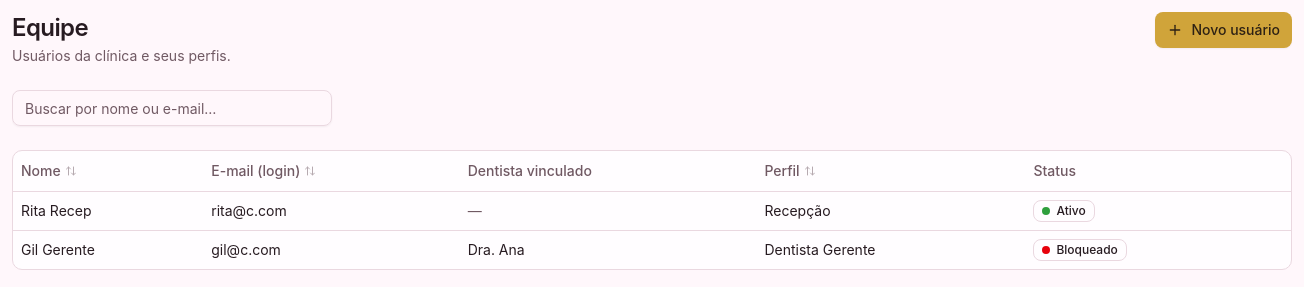
Test case: UsuariosPage › filtra pela busca (nome ou e-mail)
Type "gil" into the field with placeholder "Buscar por nome ou e-mail…" at (172, 108), box [12, 90, 332, 126]
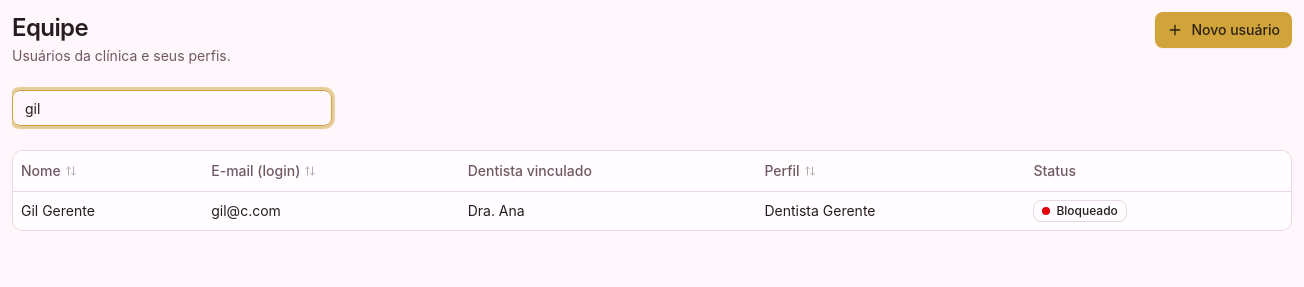
Check: the text "Gil Gerente" is shown, box [13, 191, 203, 230]
Check: the text "Rita Recep" is gone
